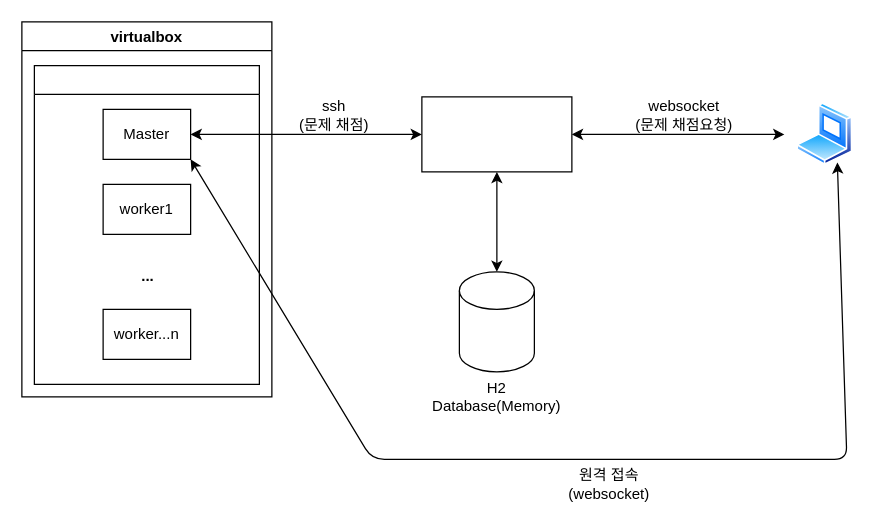
Image size: 880x524. Some labels were removed from this diagram. The shapes that lost their labels are listed below. From the top down, each one's box as (x1, y1, x2, y2) in pixels, then its label:
(421, 96, 572, 172): web Server (SprongBoot)
(33, 64, 259, 384): Cluster
